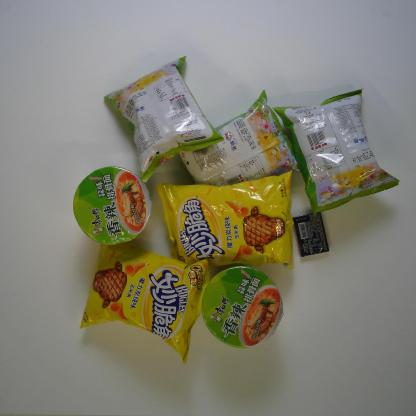Gum: (293, 208, 330, 260)
Instant Noodles: (200, 264, 285, 351), (72, 165, 153, 247)
Puffed Food: (76, 230, 216, 365), (273, 85, 403, 216), (104, 53, 226, 183), (154, 169, 298, 276), (177, 86, 302, 201)
